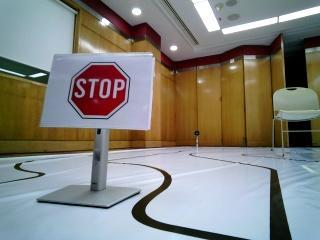stop: (57, 59, 134, 123)
